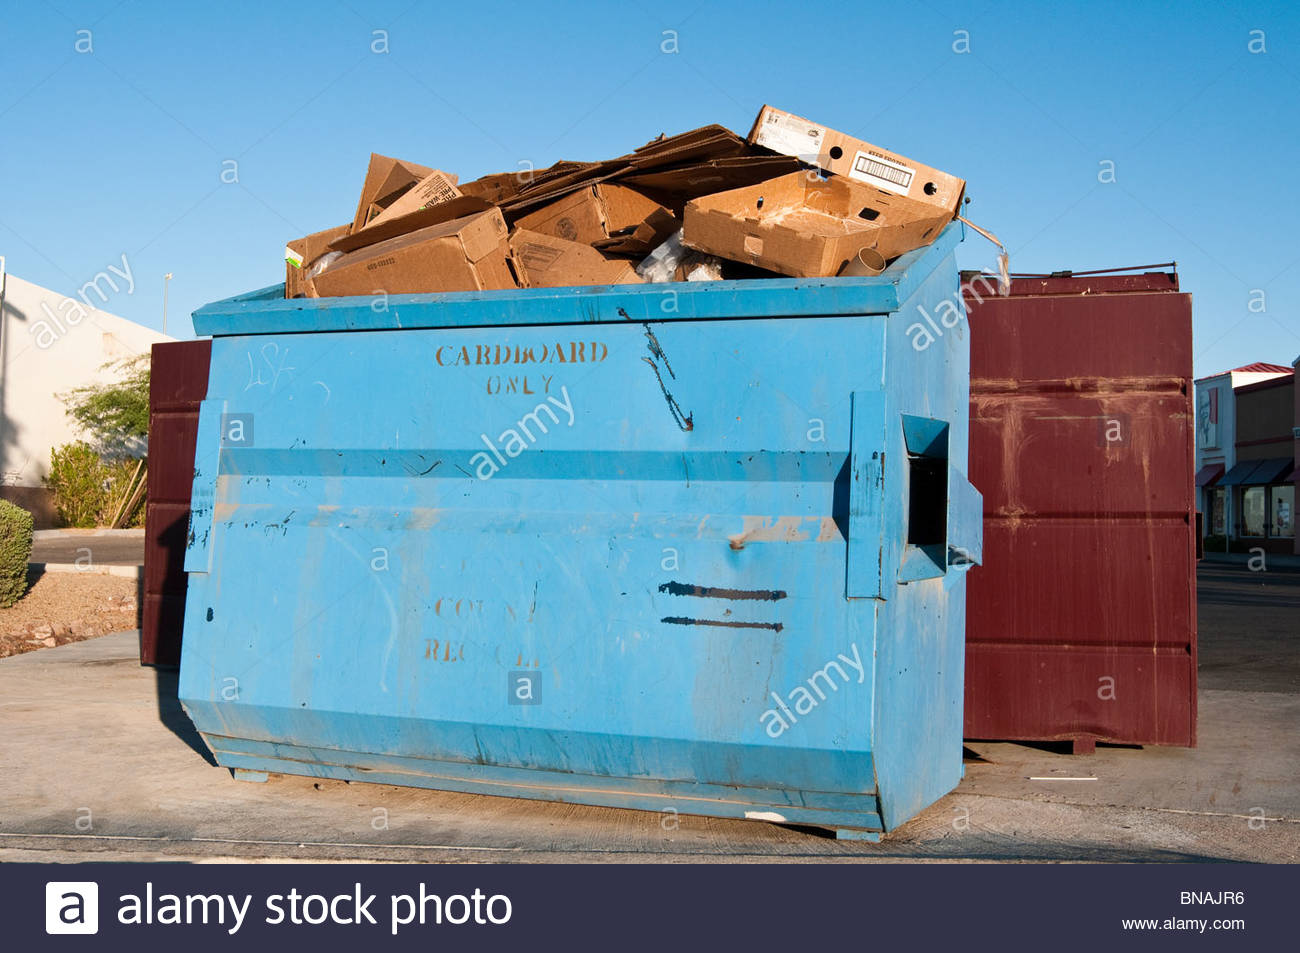Dumpster: (202, 221, 976, 847)
